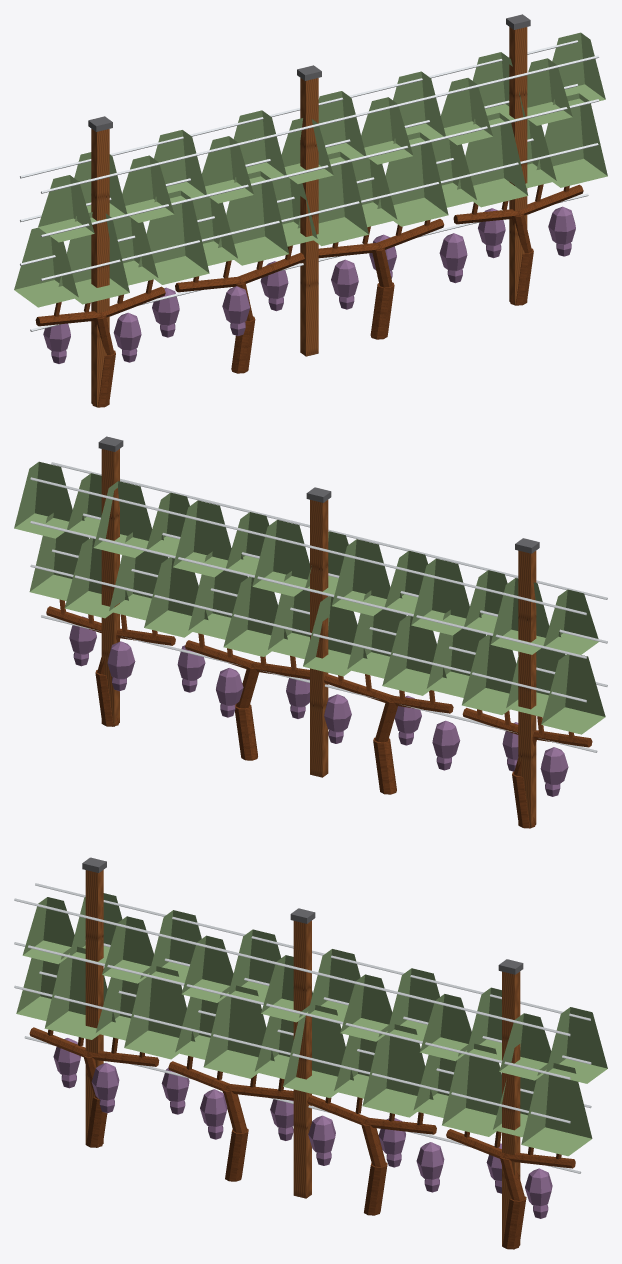
The model's file is vine-row-fruiting.glb.
3 views of the same model, one above another, from view 1: azimuth 30°, elevation 25°; view 2: azimuth 150°, elevation 25°; view 3: azimuth 330°, elevation 25° (orthographic).
Parts seen in each view (by area): view 1: vine-row-fruiting-leaf, vine-row-fruiting-timber, vine-row-fruiting-oak, vine-row-fruiting-grape, vine-row-fruiting-steel, vine-row-fruiting-dark; view 2: vine-row-fruiting-leaf, vine-row-fruiting-timber, vine-row-fruiting-oak, vine-row-fruiting-steel, vine-row-fruiting-grape, vine-row-fruiting-dark; view 3: vine-row-fruiting-leaf, vine-row-fruiting-oak, vine-row-fruiting-timber, vine-row-fruiting-grape, vine-row-fruiting-steel, vine-row-fruiting-dark.
Boxes of the visible parts, x1,y1,x2,y2 form: vine-row-fruiting-leaf: [14, 32, 607, 307]; vine-row-fruiting-timber: [91, 27, 527, 407]; vine-row-fruiting-oak: [35, 184, 583, 407]; vine-row-fruiting-grape: [43, 206, 575, 363]; vine-row-fruiting-steel: [20, 40, 598, 331]; vine-row-fruiting-dark: [88, 14, 530, 131]; vine-row-fruiting-leaf: [14, 461, 605, 734]; vine-row-fruiting-timber: [101, 449, 536, 828]; vine-row-fruiting-oak: [46, 599, 592, 828]; vine-row-fruiting-steel: [30, 462, 607, 752]; vine-row-fruiting-grape: [69, 616, 568, 796]; vine-row-fruiting-dark: [98, 436, 539, 553]; vine-row-fruiting-leaf: [16, 893, 607, 1156]; vine-row-fruiting-oak: [29, 1027, 575, 1249]; vine-row-fruiting-timber: [85, 870, 520, 1249]; vine-row-fruiting-grape: [53, 1038, 552, 1218]; vine-row-fruiting-steel: [14, 883, 591, 1173]; vine-row-fruiting-dark: [82, 857, 523, 974].
Size of the model in its own units: 4.09 by 1.94 by 0.3998.
6 materials, 2 textured.
